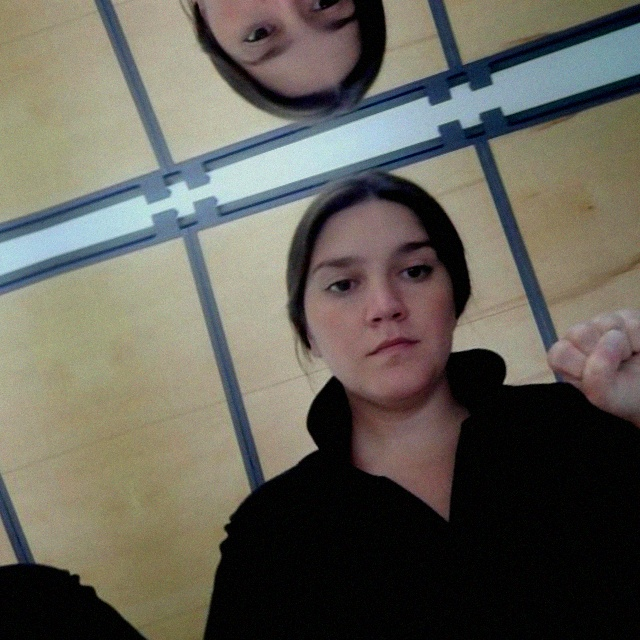Rock: (535, 289, 640, 449)
